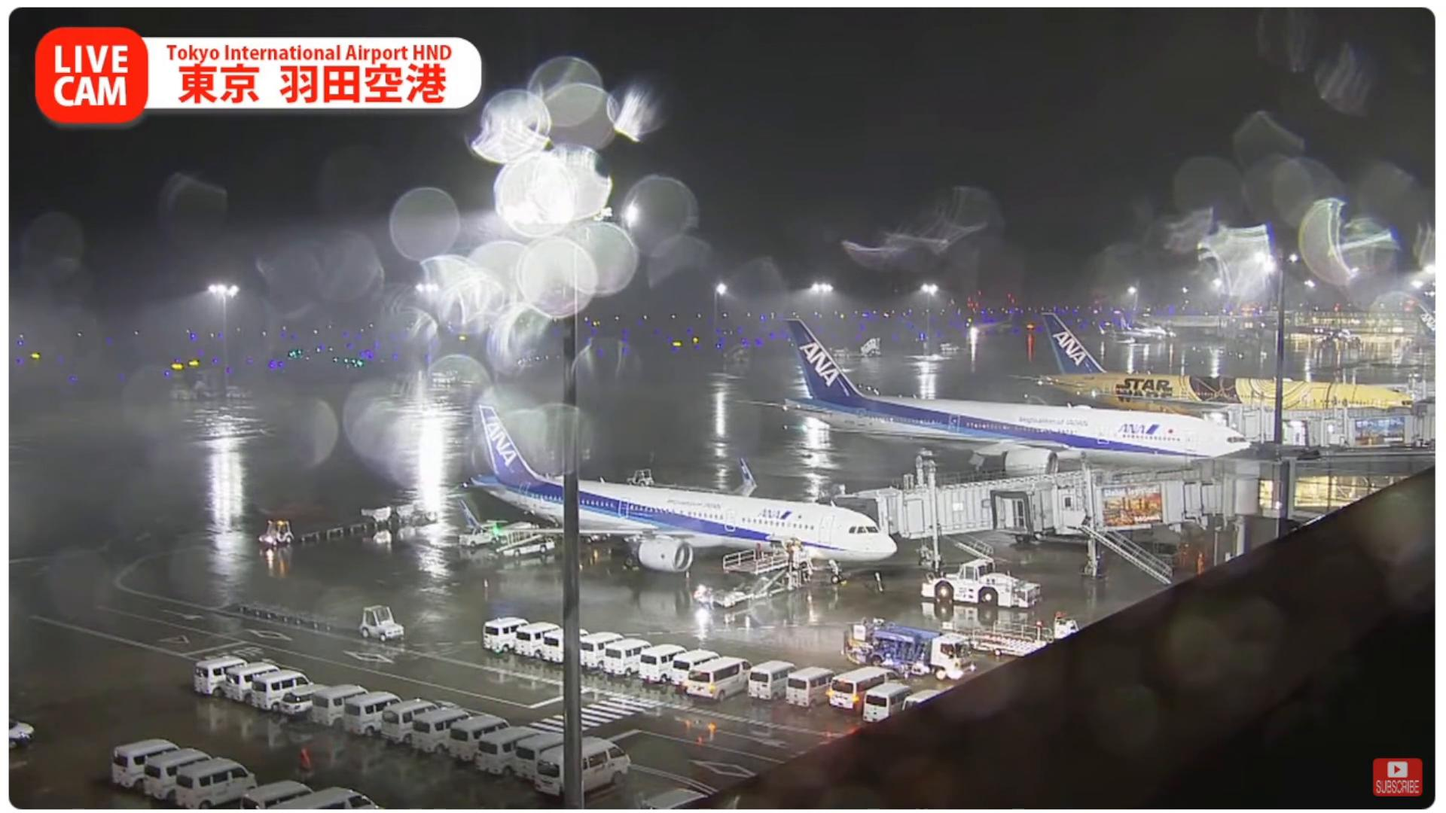APS: (920, 557, 1042, 611)
Aerobridge: (837, 461, 1193, 540), (988, 473, 1227, 539)
Airplane: (456, 406, 894, 586)
Dolly: (297, 498, 440, 543), (234, 602, 359, 636)
JCPL: (692, 533, 821, 610), (914, 611, 1086, 660)
Skyloader: (483, 513, 557, 558)
Tractor: (358, 604, 405, 643), (257, 520, 294, 546)
Window: (1289, 476, 1414, 509)
